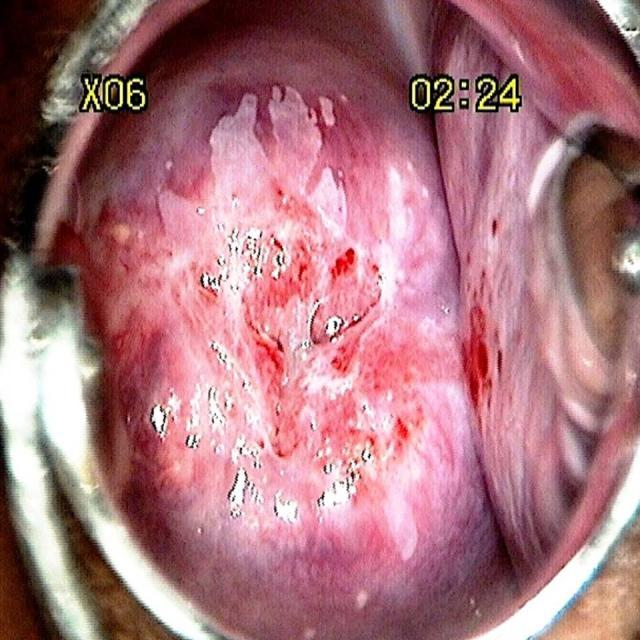cervical_lesion: (112, 78, 479, 562)
